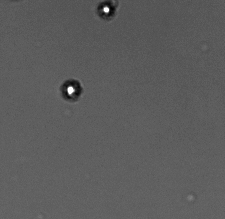Living Cell: (61, 79, 82, 101), (97, 1, 116, 19)
